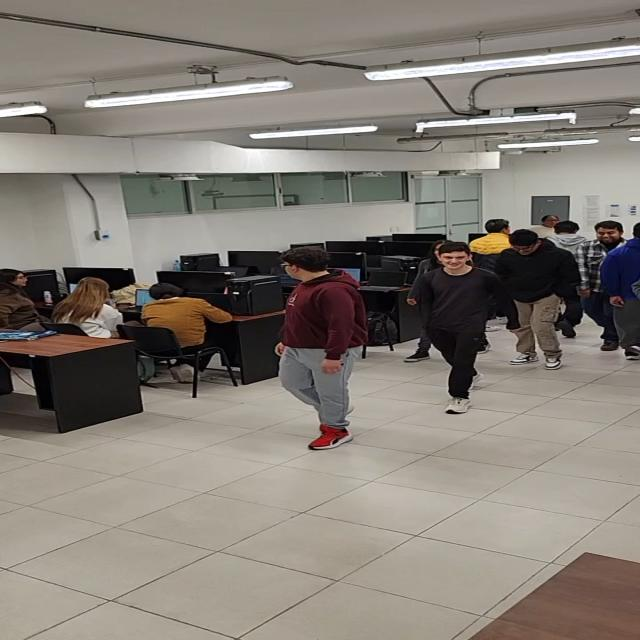Persona: (272, 246, 366, 450), (414, 240, 502, 415), (493, 229, 581, 372), (572, 221, 621, 351), (541, 221, 591, 340), (598, 222, 640, 360)
